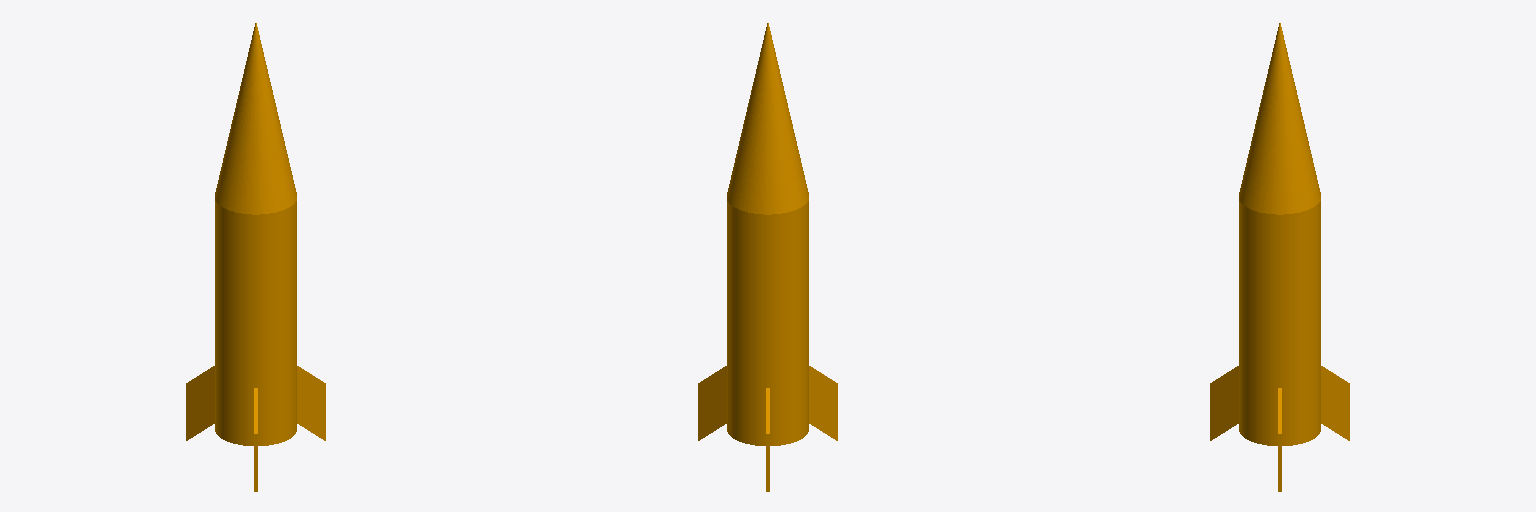
URDF robot description (rocket):
<robot name="rocket">
  <link name="base_link">

    <inertial>
      <origin xyz="0 0 0"/>
      <mass value="267"/>
      <inertia ixx="50" iyy="50" izz="5" ixy="0" ixz="0" iyz="0"/>
    </inertial>

    <visual>
      <geometry>
        <mesh filename="rocket.obj" scale="0.01 0.01 0.01"/>
      </geometry>
    </visual>

    <collision>
      <geometry>
        <mesh filename="rocket.obj" scale="0.01 0.01 0.01"/>
      </geometry>
    </collision>

  </link>
</robot>

--- Render facts (derived) ---
The picture shows the robot from 3 angles, left to right: view 1: azimuth 30°, elevation 25°; view 2: azimuth 150°, elevation 25°; view 3: azimuth 270°, elevation 25°; orthographic projection.
Robot: rocket — 1 links, 0 joints (none); root link base_link; default pose: every joint at zero.
Links seen in each view (by area): view 1: base_link; view 2: base_link; view 3: base_link.
Boxes of the visible links, bbox=[...] form: base_link: bbox=[186, 23, 325, 491]; base_link: bbox=[698, 23, 837, 491]; base_link: bbox=[1210, 23, 1349, 491].
Bounding box of the posed robot: 0.9489 × 1.1 × 3.77 m (x, y, z).
1 mesh visuals loaded from 1 distinct referenced files (1 OBJ).
